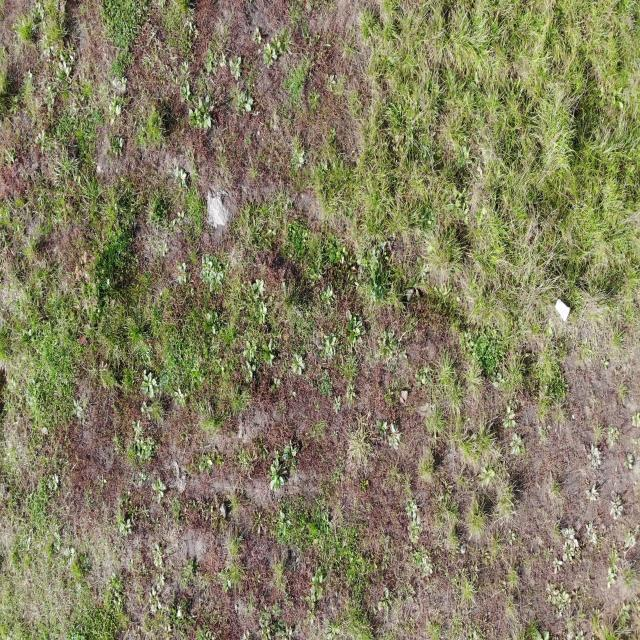rubbish: (554, 297, 570, 327)
